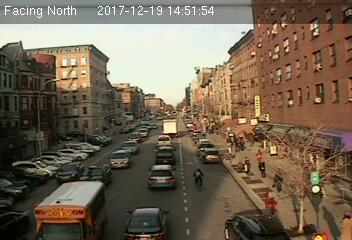bicycle: (192, 167, 205, 193)
car: (224, 212, 292, 239), (122, 207, 173, 239), (147, 164, 176, 188), (83, 164, 113, 184), (55, 163, 83, 181), (153, 146, 178, 165), (110, 149, 131, 168), (201, 146, 220, 163), (121, 141, 140, 155), (155, 134, 174, 145)
pedestrian: (256, 157, 269, 177), (242, 155, 250, 175)
truck: (31, 181, 108, 240), (162, 120, 178, 137)
